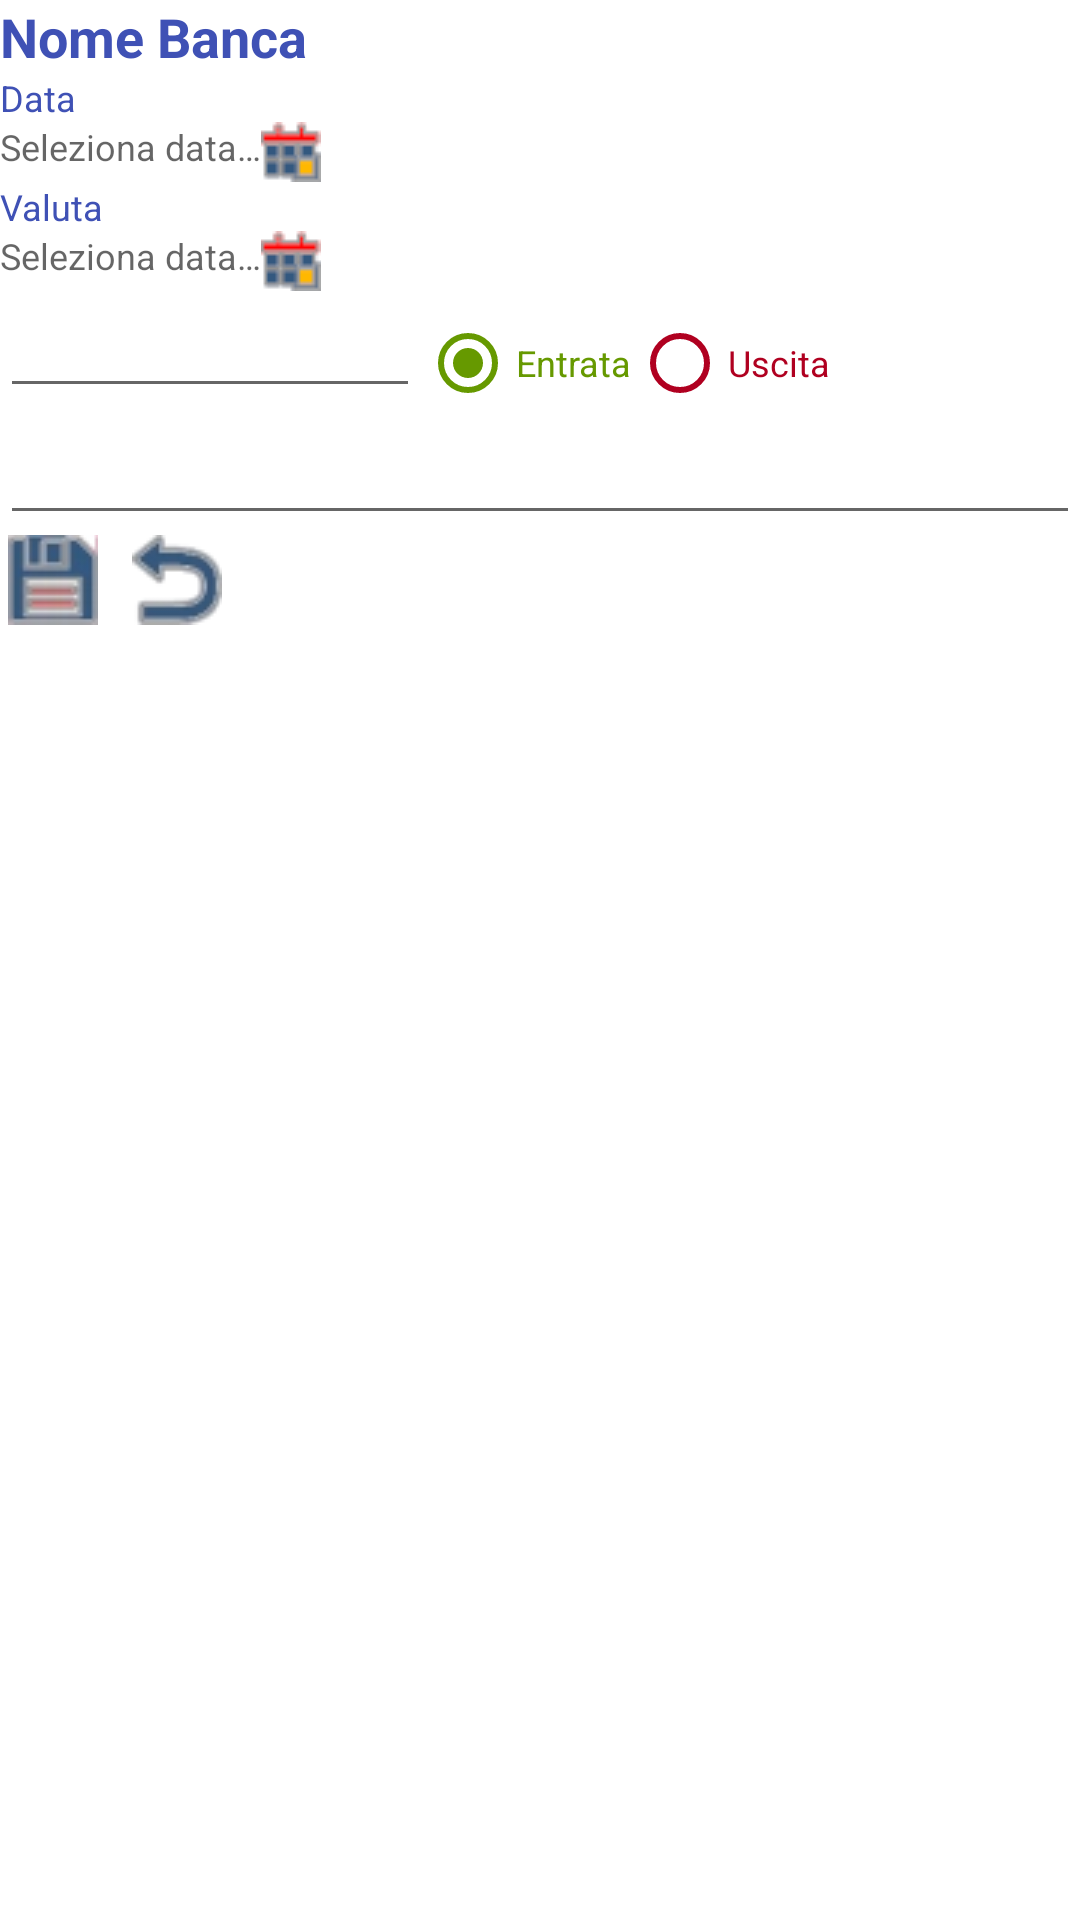

Icon click points for this 1080*1920 phone screenshot, format (x=x, y=y):
annulla: (x=177, y=580)
calendar: (x=291, y=152), (x=291, y=261)
save: (x=53, y=580)
